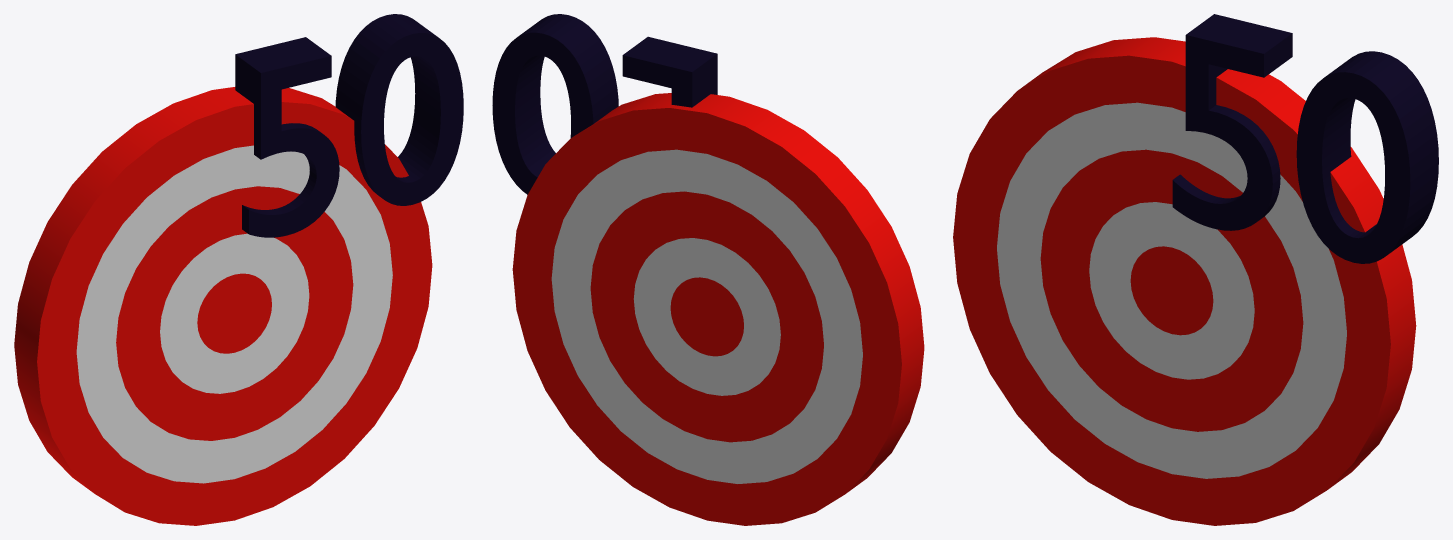
File: icon-target.fbx
3 renders of one model, left to right at view 1: azimuth 30°, elevation 25°; view 2: azimuth 150°, elevation 25°; view 3: azimuth 330°, elevation 25°, orthographic. The views are drawn at different scales.
Parts seen in each view (by area): view 1: Target, Text; view 2: Target, Text; view 3: Target, Text.
Boxes of the visible parts, x1,y1,x2,y2 form: Target: [14, 87, 432, 525]; Text: [235, 14, 463, 237]; Target: [512, 93, 924, 525]; Text: [492, 14, 717, 194]; Target: [953, 37, 1416, 525]; Text: [1172, 14, 1438, 263].
Bounding box in the file's own units: 21.24 × 21.75 × 2.6.
